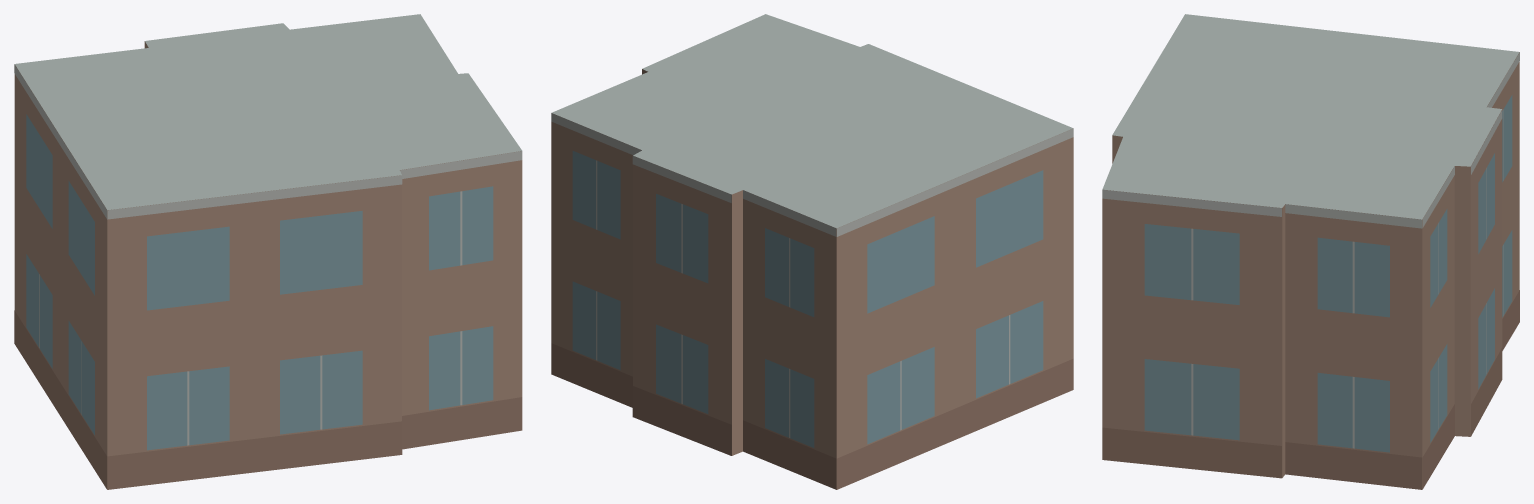
Rendered from survey-upis-32481320.glb.
3 views of the same model, side by side, from view 1: azimuth 30°, elevation 25°; view 2: azimuth 150°, elevation 25°; view 3: azimuth 270°, elevation 25° (orthographic). The views are drawn at different scales.
Parts seen in each view (by area): view 1: survey-upis-32481320.tmp; view 2: survey-upis-32481320.tmp; view 3: survey-upis-32481320.tmp.
Boxes of the visible parts, x1,y1,x2,y2 form: survey-upis-32481320.tmp: (14,14,522,489); survey-upis-32481320.tmp: (551,14,1073,489); survey-upis-32481320.tmp: (1102,14,1519,489).
Bounding box in the file's own units: 11.92 × 7.3 × 10.23.
